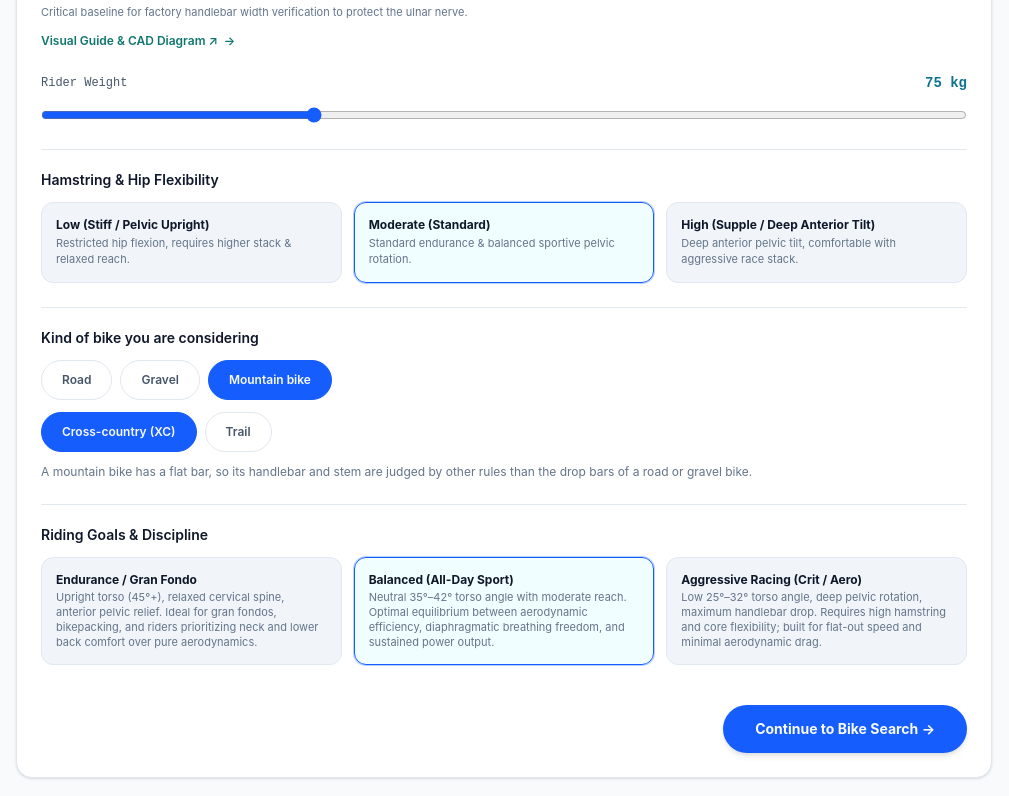
Test: the pre-purchase audit of a mountain bike (en) › should start from the kind of the bike of the garage, and let the rider choose another kind and XC or Trail
(page scrolled)
Step 1. Click the button "Trail" → click(238, 432), box [205,412,272,452]
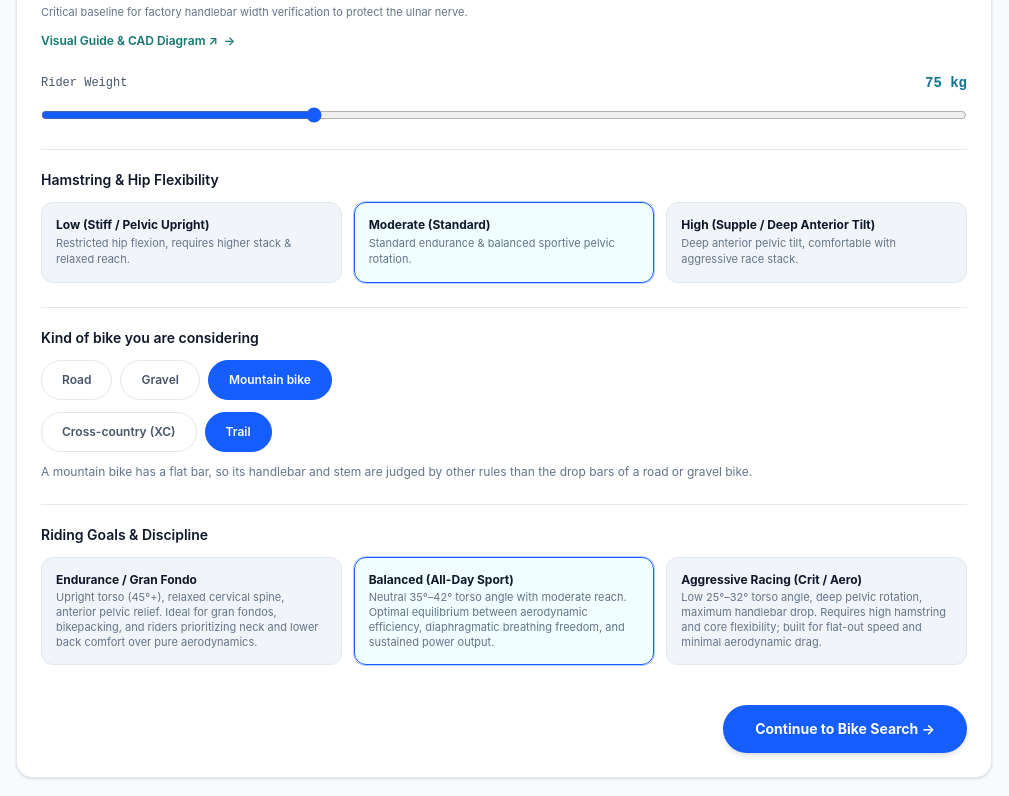
Check: the button "Trail" is pressed, box [205,412,272,452]
Step 2. Click the button "Road" → click(77, 380), box [41,360,112,400]
(page scrolled)
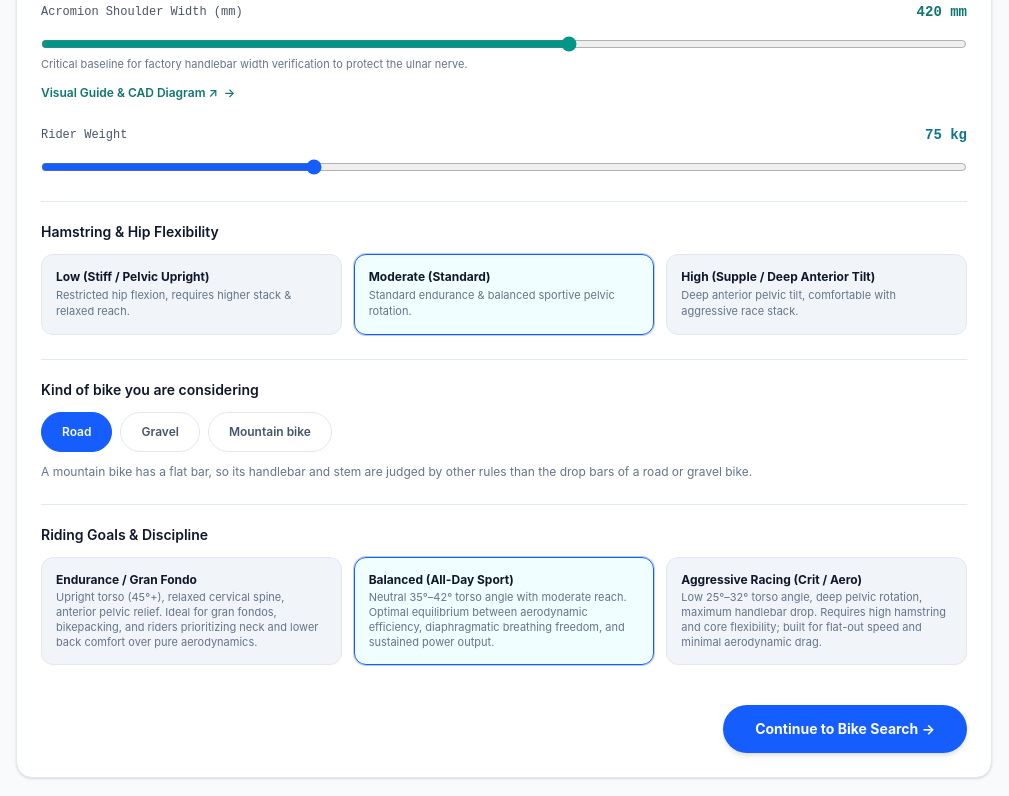
Check: the button "Trail" is gone
